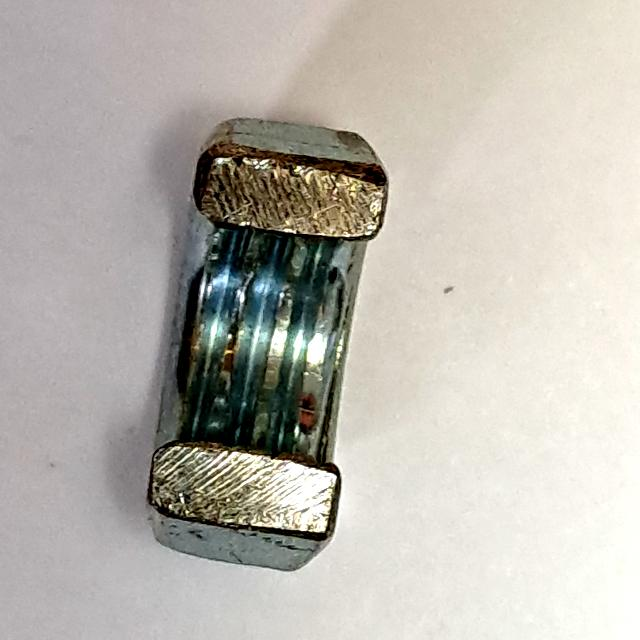Side-Fracture: (132, 104, 396, 586)
